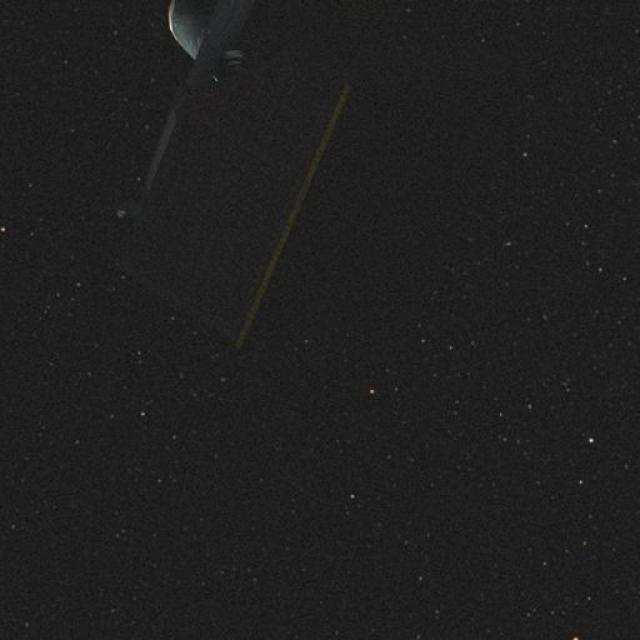debris: (97, 0, 330, 338)
